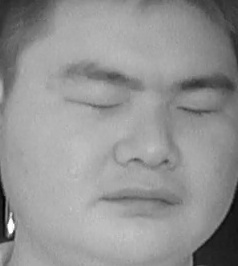blink: (66, 86, 121, 121), (175, 93, 221, 129)
mouth: (99, 174, 182, 222)
